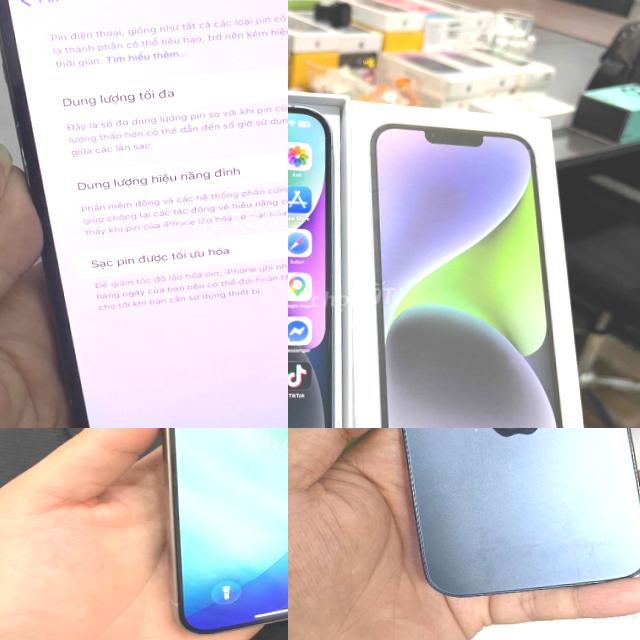gen_12_13: (0, 0, 288, 428)
gen_15: (367, 428, 640, 615), (134, 428, 288, 627)
